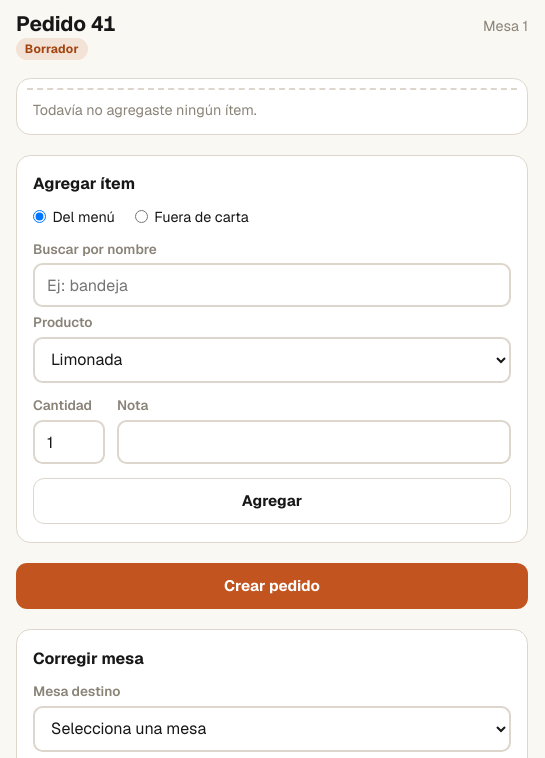
OrderBuilder (T66, RF-3/4/5/6/7) › create, send additions and print as separate steps › 'Crear pedido' does not print and tells how to print
Click the button "Crear pedido". click: coordinates (272, 586)
box: [16,563,528,609]
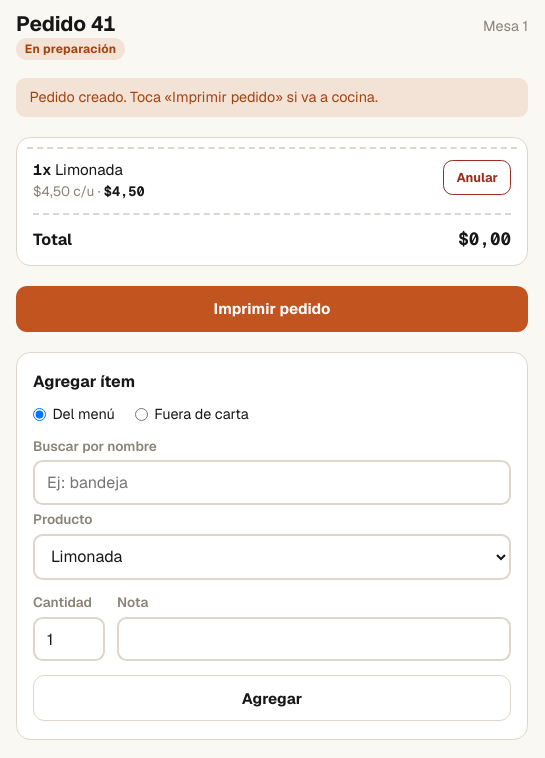
Check: the button "Imprimir pedido" is enabled, box [16,286,528,332]
Check: the text "Pedido creado. Toca «Imprimir pedido» si va a cocina." is shown, box [16,78,528,117]
